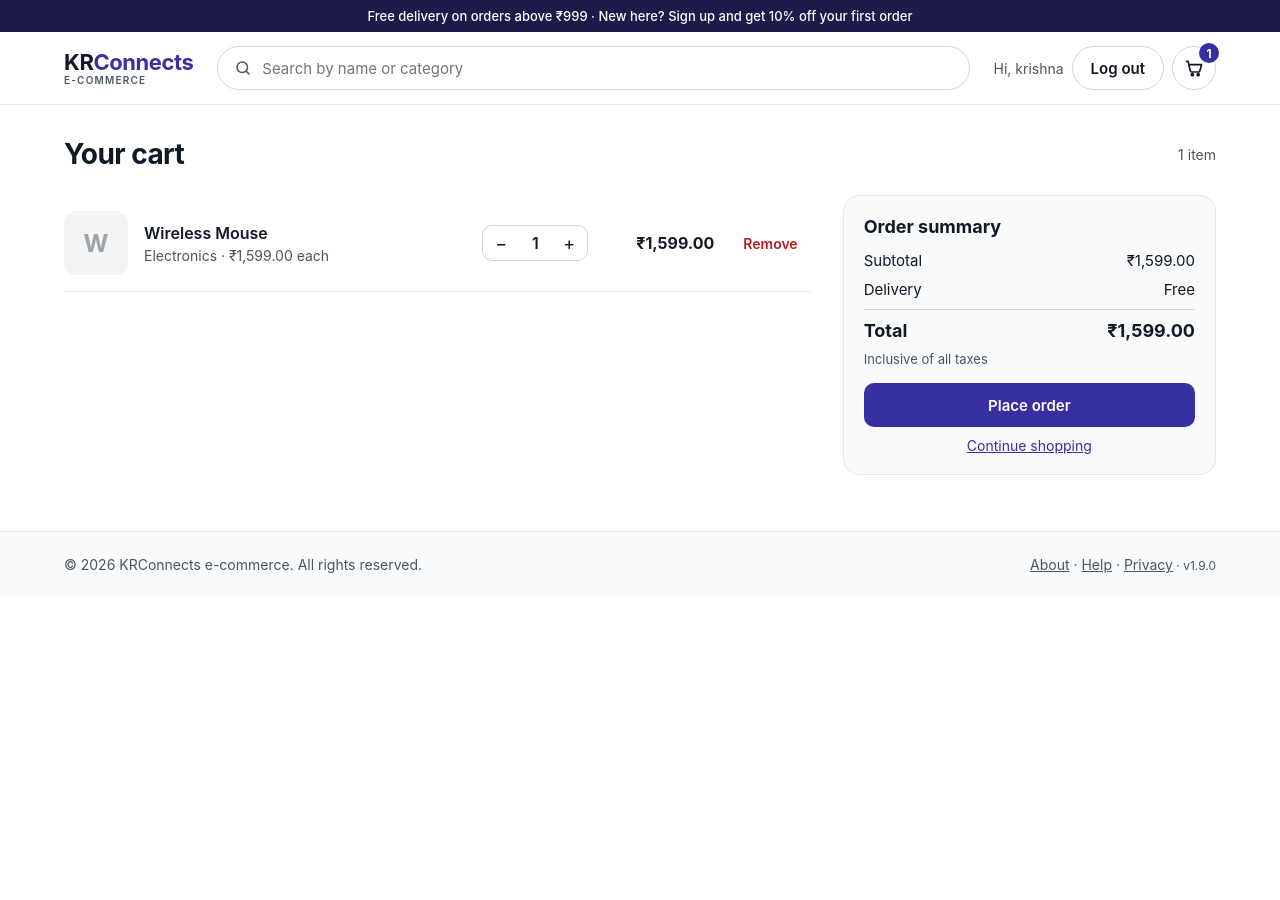
Test: CartPage › shows a friendly message and keeps the cart when the order fails
This screenshot has width=1280, height=900.
What coordinates should you click on to do the following:
click the button "Place order"
I would click on:
 (1029, 405)
Its box is [864, 383, 1195, 427].
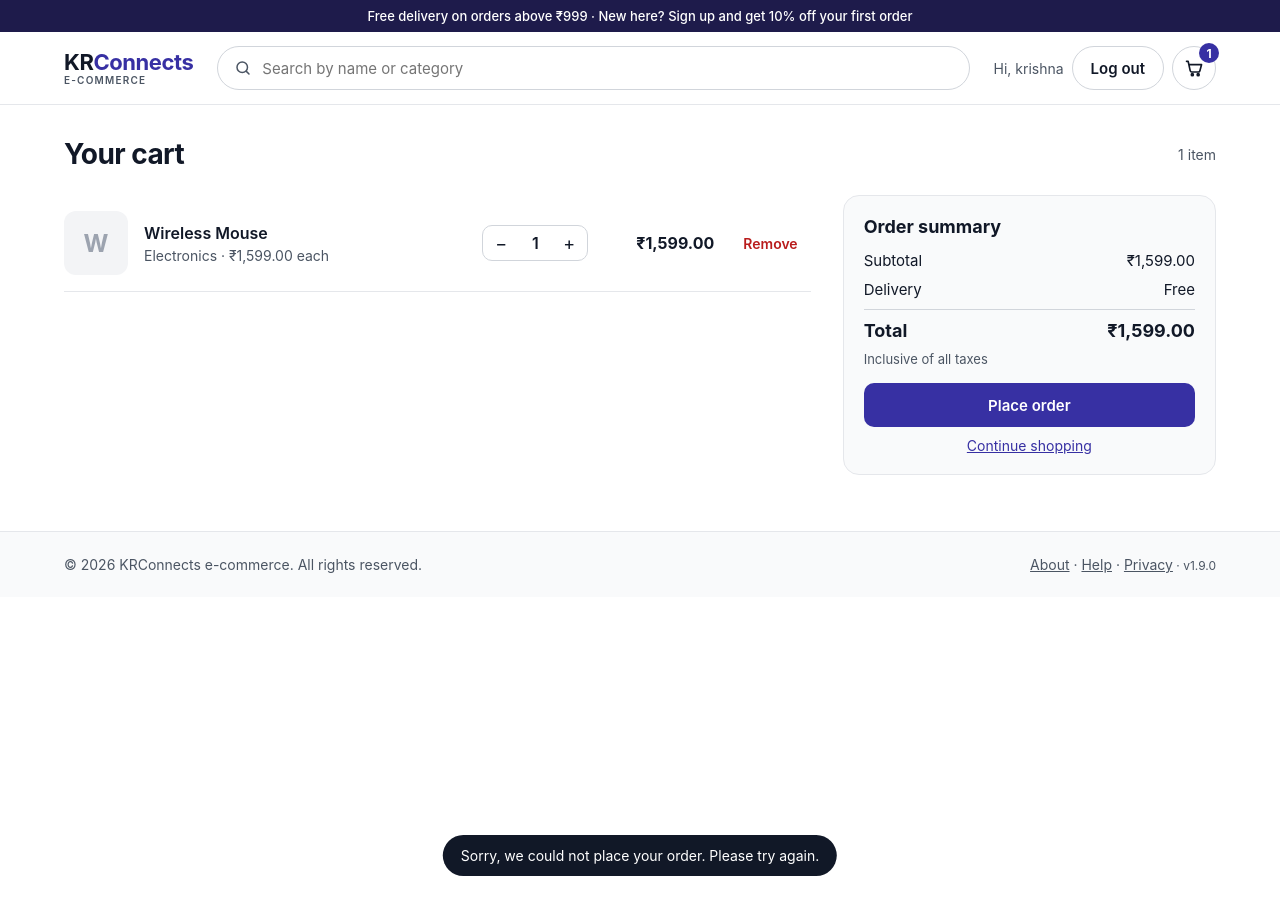
expect the heading "Your cart" is shown: met, box [64, 137, 184, 171]
expect the text "Sorry, we could not place your order. Please try again." is shown: met, box [461, 847, 819, 864]
